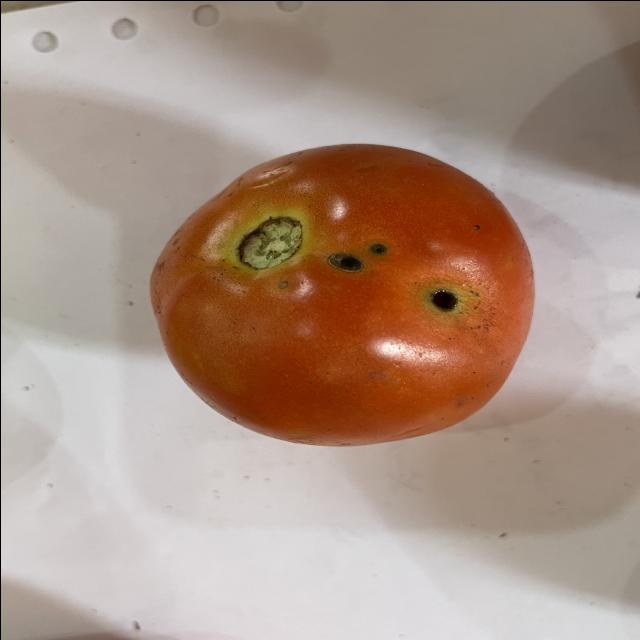fruitworm_bore: (328, 236, 398, 281), (424, 288, 464, 314)
